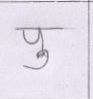u_matra: (29, 51, 51, 71)
